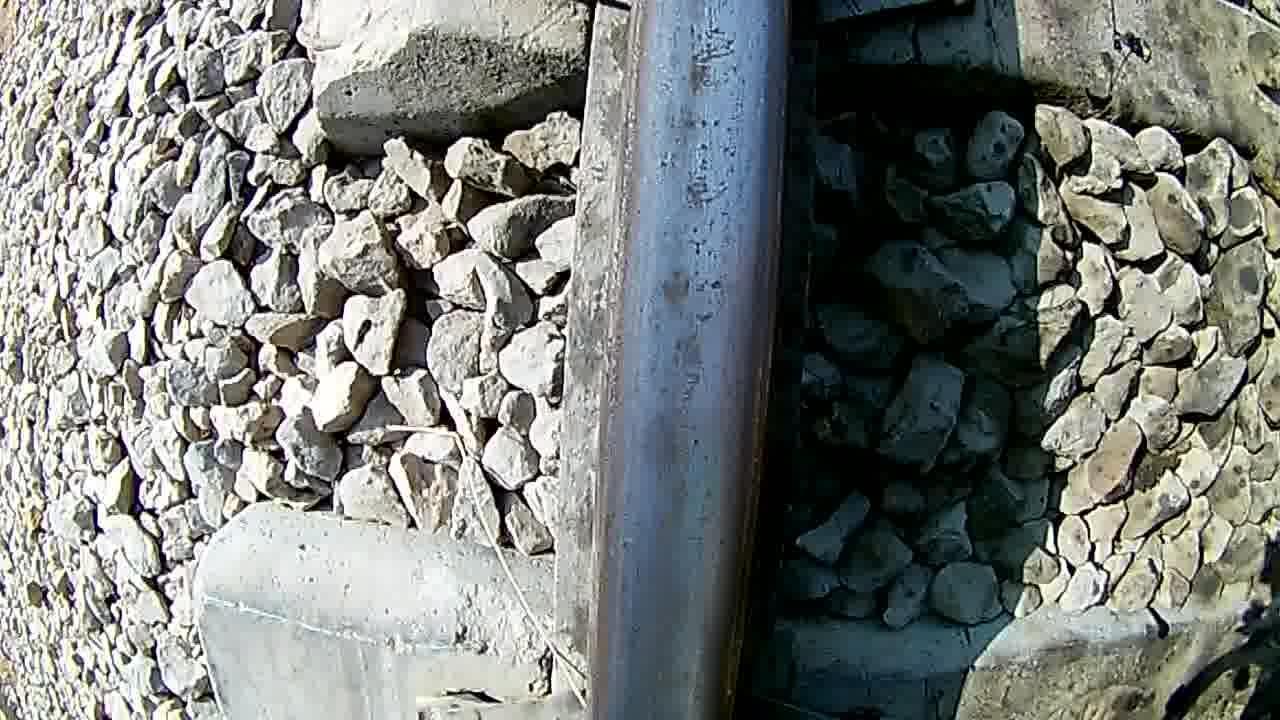crack: (590, 1, 787, 720)
